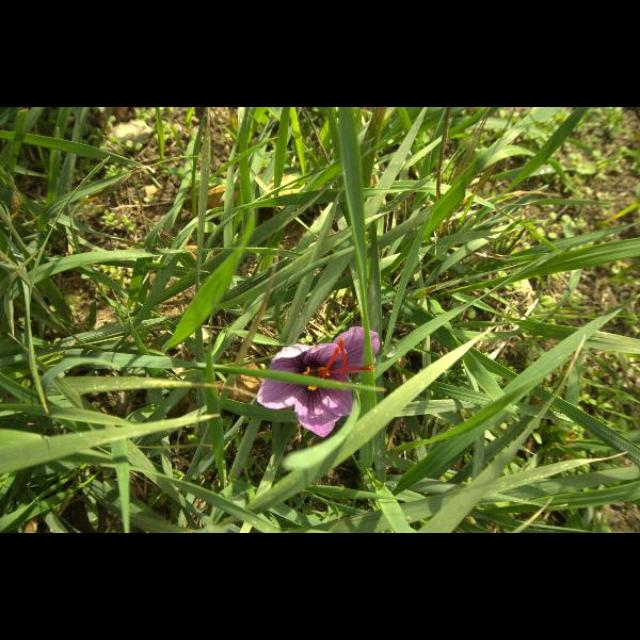flower: (256, 327, 380, 438)
